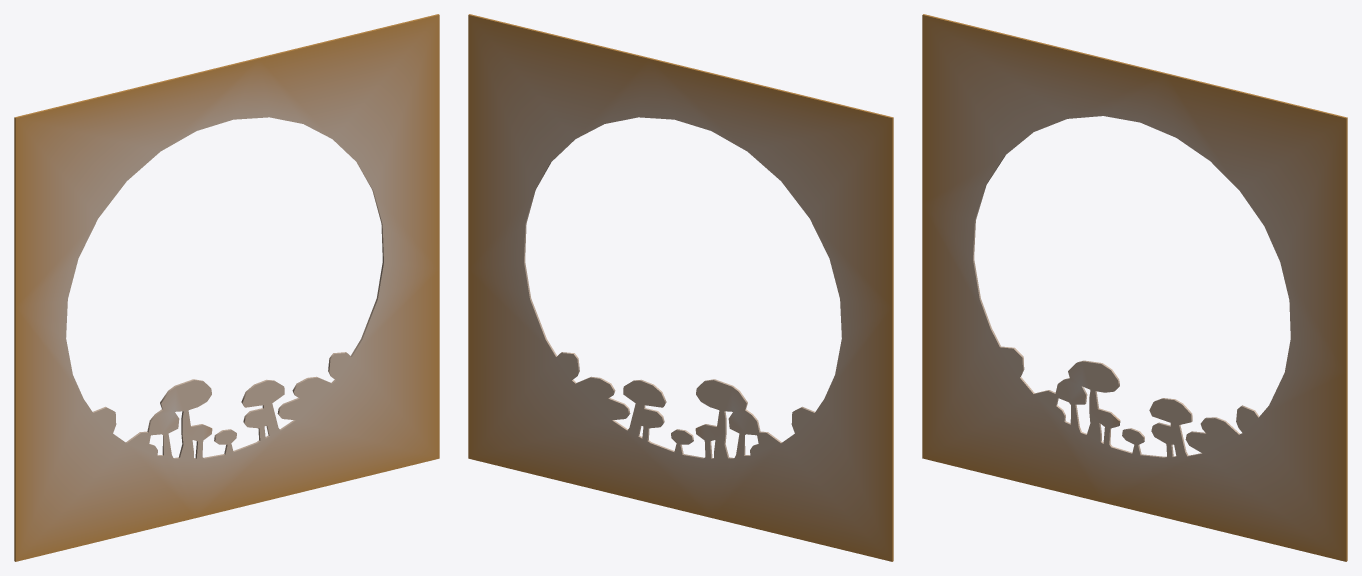
The model's file is fall_1c.fbx.
The picture shows the model from 3 angles, left to right: view 1: azimuth 30°, elevation 25°; view 2: azimuth 150°, elevation 25°; view 3: azimuth 330°, elevation 25°; orthographic projection.
Visible parts, largest first — view 1: fall_1c; view 2: fall_1c; view 3: fall_1c.
Boxes of the visible parts, <box> form: fall_1c: <box>14,14,439,561</box>; fall_1c: <box>468,14,893,561</box>; fall_1c: <box>922,14,1347,561</box>.
Size of the model in its own units: 198 by 198 by 1.
